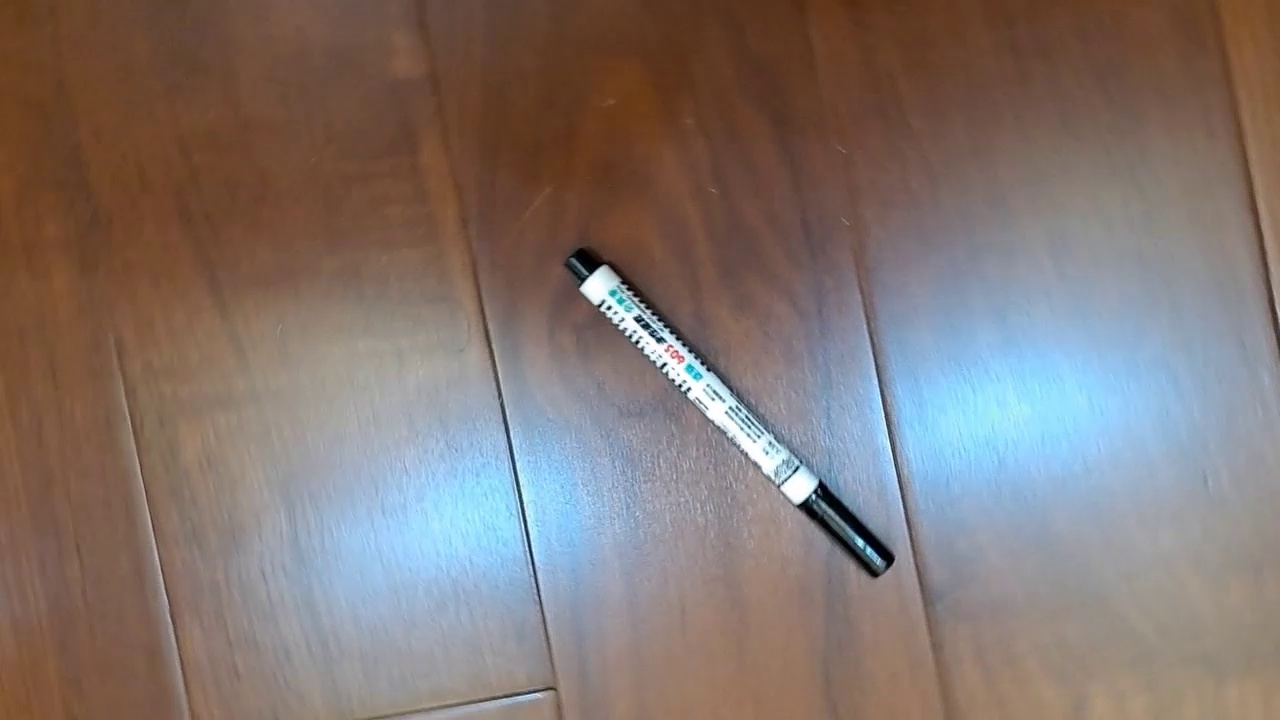pen: (563, 245, 896, 580)
